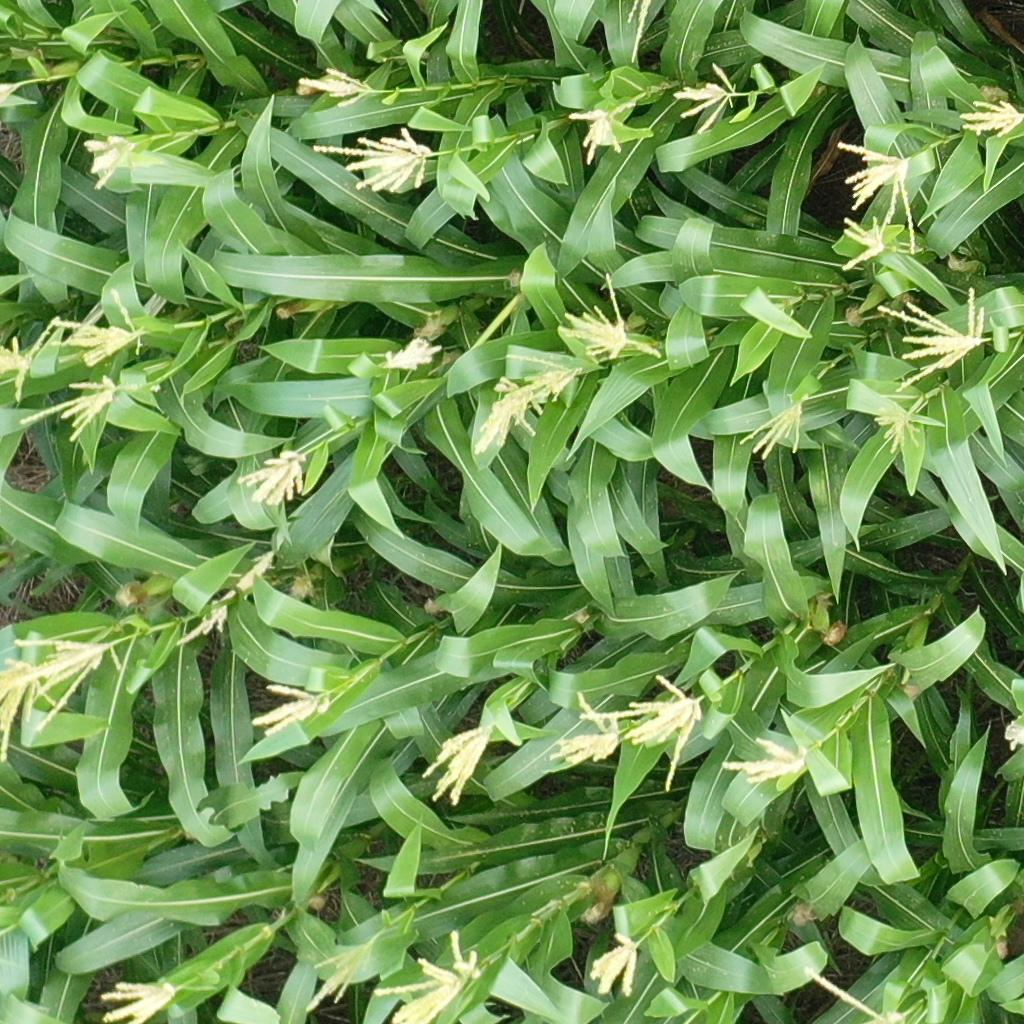Tassel: (578, 673, 706, 797), (869, 284, 992, 396), (9, 635, 123, 734), (373, 927, 486, 1024), (553, 272, 666, 364), (835, 142, 925, 256), (174, 553, 279, 649), (416, 707, 502, 811), (18, 375, 140, 445), (309, 127, 434, 195), (48, 288, 147, 369), (470, 375, 546, 456), (735, 386, 813, 463), (1, 312, 61, 408), (550, 691, 623, 768), (1, 656, 53, 762), (251, 679, 336, 742), (671, 62, 739, 136), (717, 732, 810, 785), (502, 347, 584, 405), (567, 97, 639, 163), (305, 942, 371, 1014), (236, 447, 309, 508), (586, 932, 645, 1002), (99, 977, 176, 1024), (838, 210, 891, 273), (83, 129, 136, 190), (876, 395, 927, 456), (299, 67, 372, 109), (380, 335, 448, 376), (958, 96, 1024, 138), (625, 1, 654, 62), (1, 79, 22, 105)
